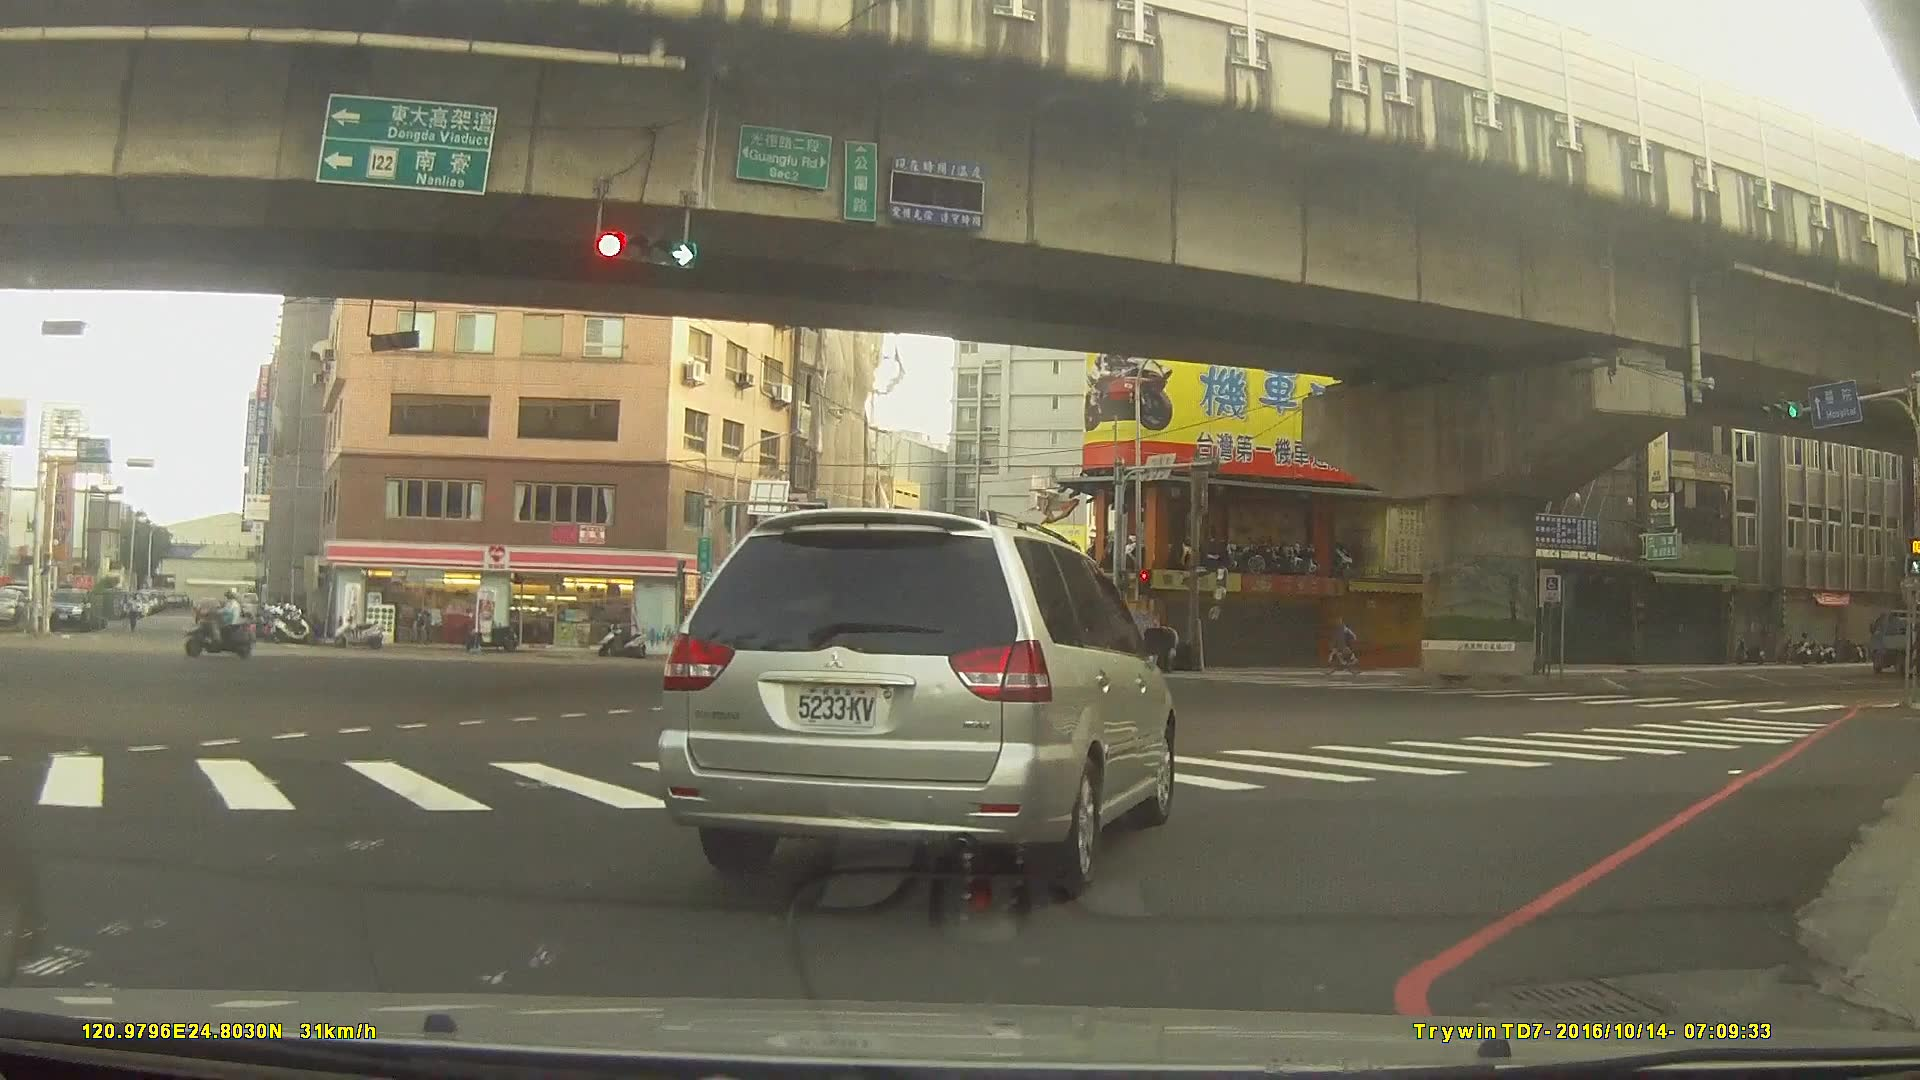rider: (184, 587, 254, 658), (1312, 616, 1367, 677)
vehicle: (658, 506, 1177, 891), (1866, 611, 1920, 675), (858, 630, 929, 670), (45, 588, 90, 633), (543, 606, 605, 633), (192, 597, 225, 624)
